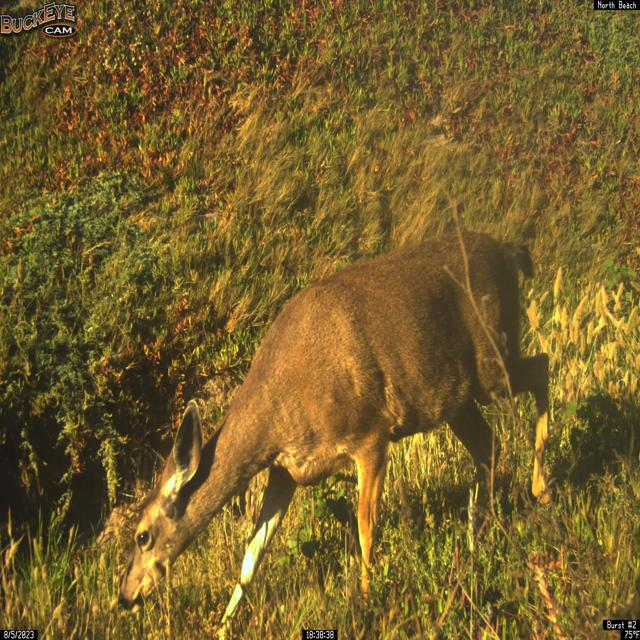deer: (117, 229, 553, 640)
